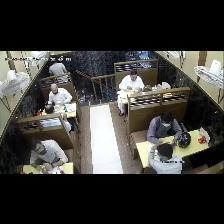person: (117, 71, 144, 116), (30, 139, 67, 170), (147, 112, 182, 143), (149, 142, 182, 173), (48, 82, 72, 104), (49, 55, 67, 75), (63, 113, 74, 133)
